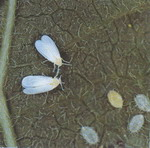whitefly: (34, 34, 71, 77), (21, 75, 65, 94)
